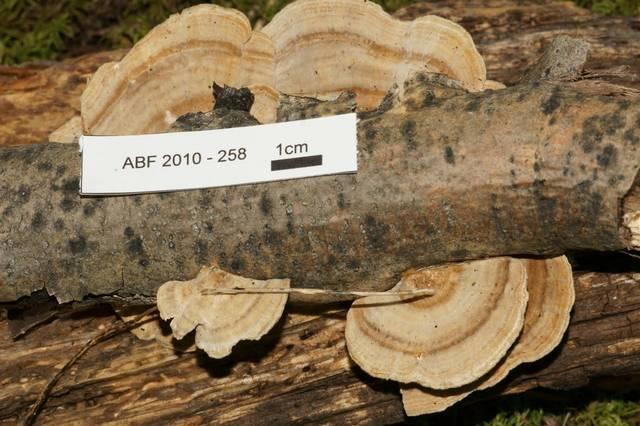Non-edible Mushroom: (343, 252, 575, 416), (59, 0, 261, 136), (257, 0, 491, 114), (140, 238, 286, 363)
